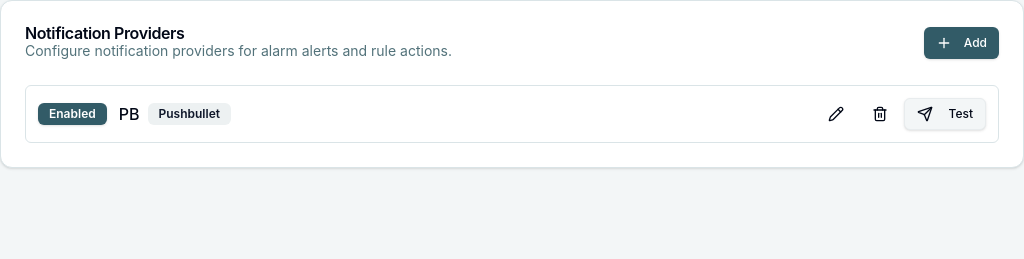
NotificationProvidersCard › tests provider and displays result banner
What coordinates should you click on to do the following:
click the button "Test"
I would click on:
 (945, 114)
Its box is [904,98,986,130].
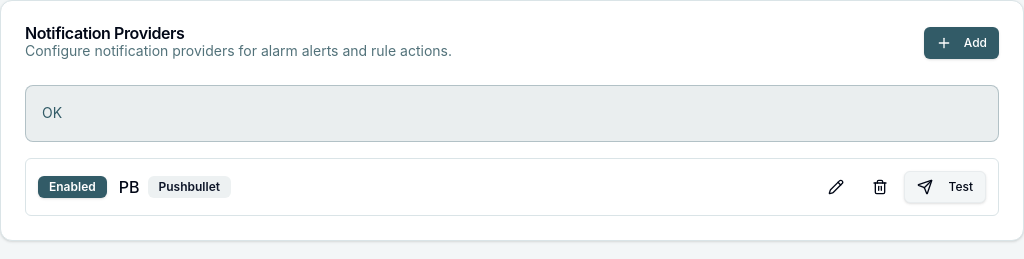
Now the text "OK" is shown, box [42,104,62,121]
